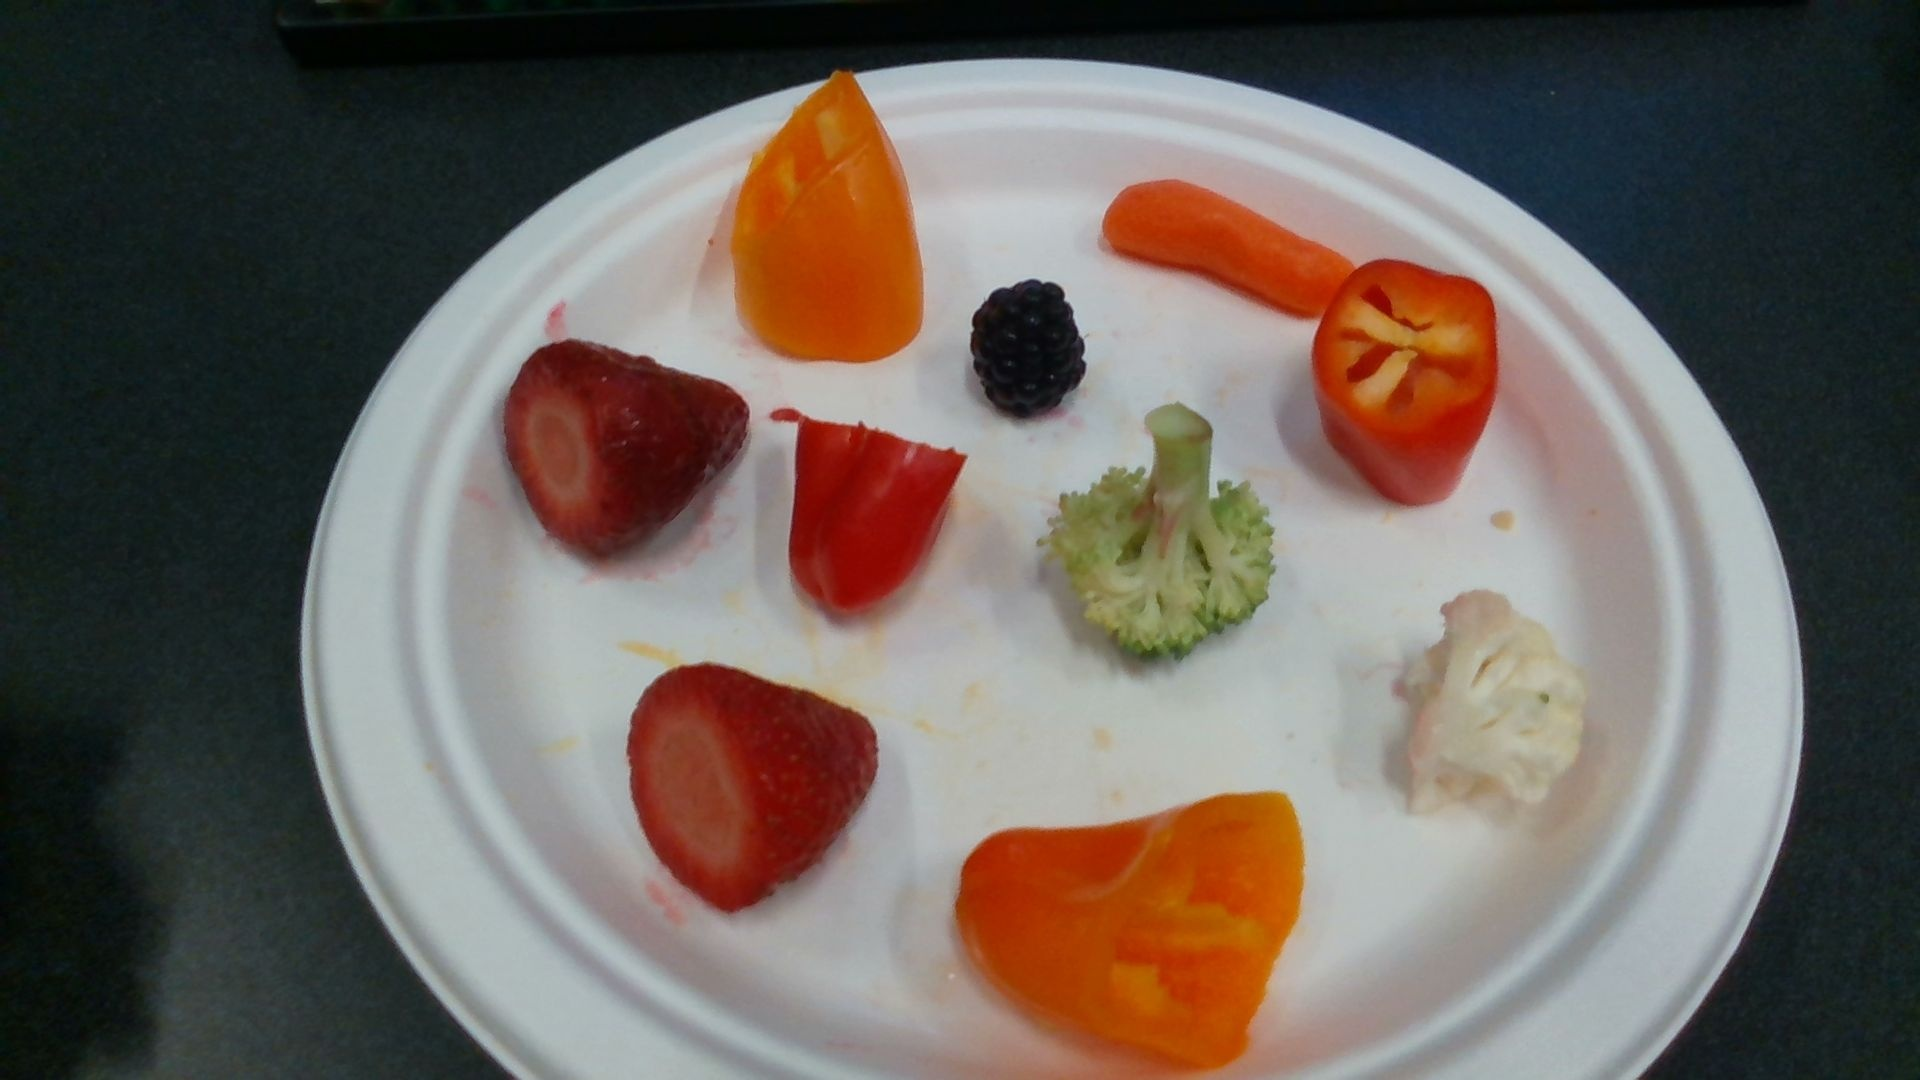bell_pepper: (959, 793, 1305, 1065), (732, 71, 924, 361), (1315, 260, 1499, 505), (774, 406, 959, 613)
blackberry: (975, 280, 1087, 415)
broccoli: (1042, 404, 1274, 655)
carrot: (1104, 181, 1352, 315)
cauliflower: (1393, 589, 1589, 822)
strawberry: (630, 665, 877, 911), (502, 342, 749, 556)
